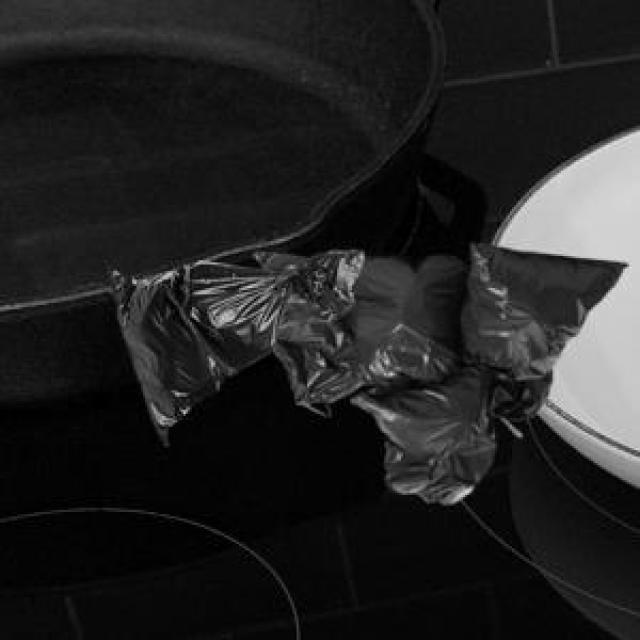miscellaneous trash: (250, 241, 622, 499), (106, 245, 358, 442)
